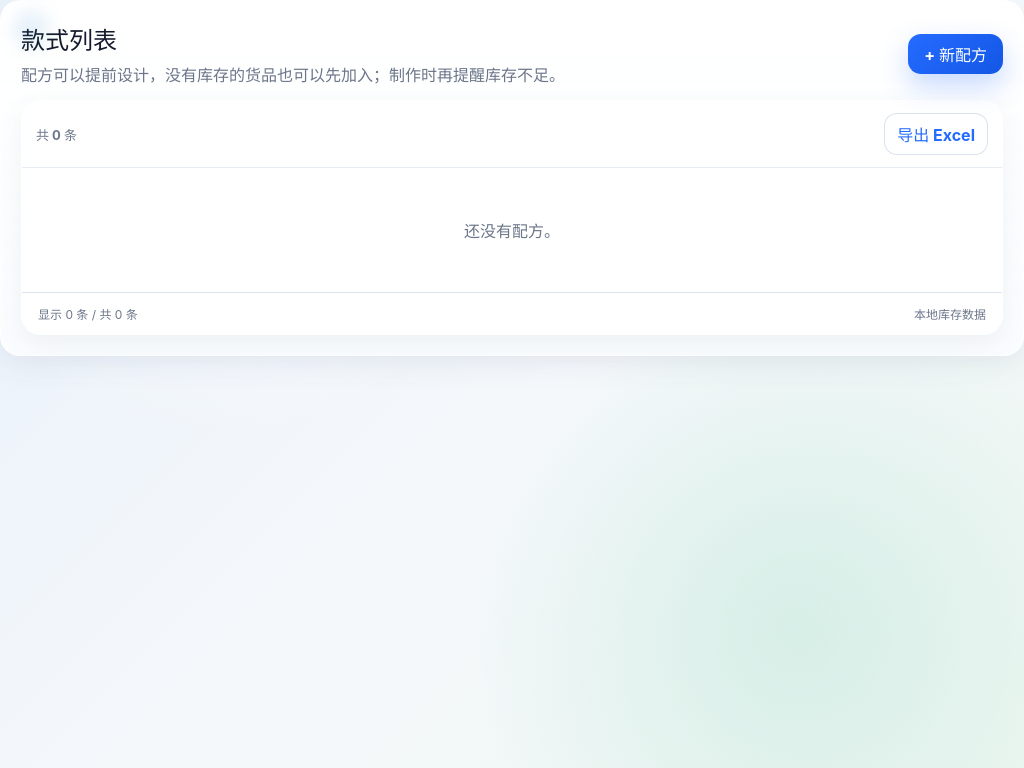
it: RecipesPage › lets recipe material lines choose an active stocked material size
The width and height of the screenshot is (1024, 768).
Later steps or results of the test are not shown.
Click the button "+ 新配方" at (956,54), box [908, 34, 1003, 74]
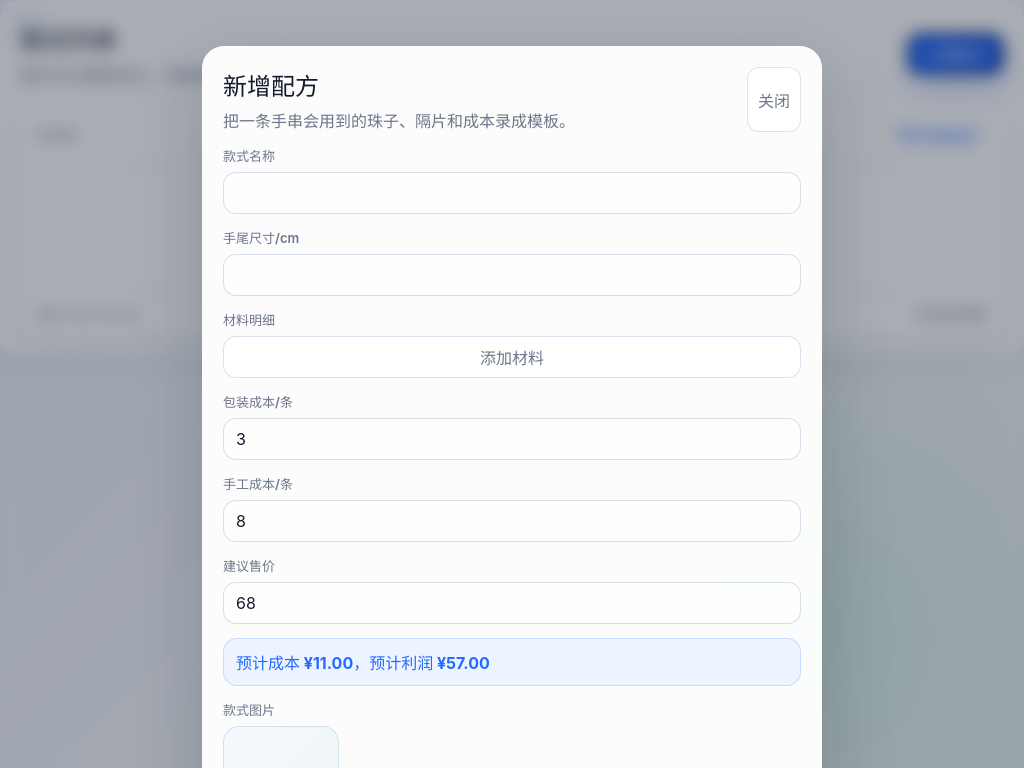
Type "粉晶款" into the field labelled "款式名称" at (512,193), box [223, 172, 801, 214]
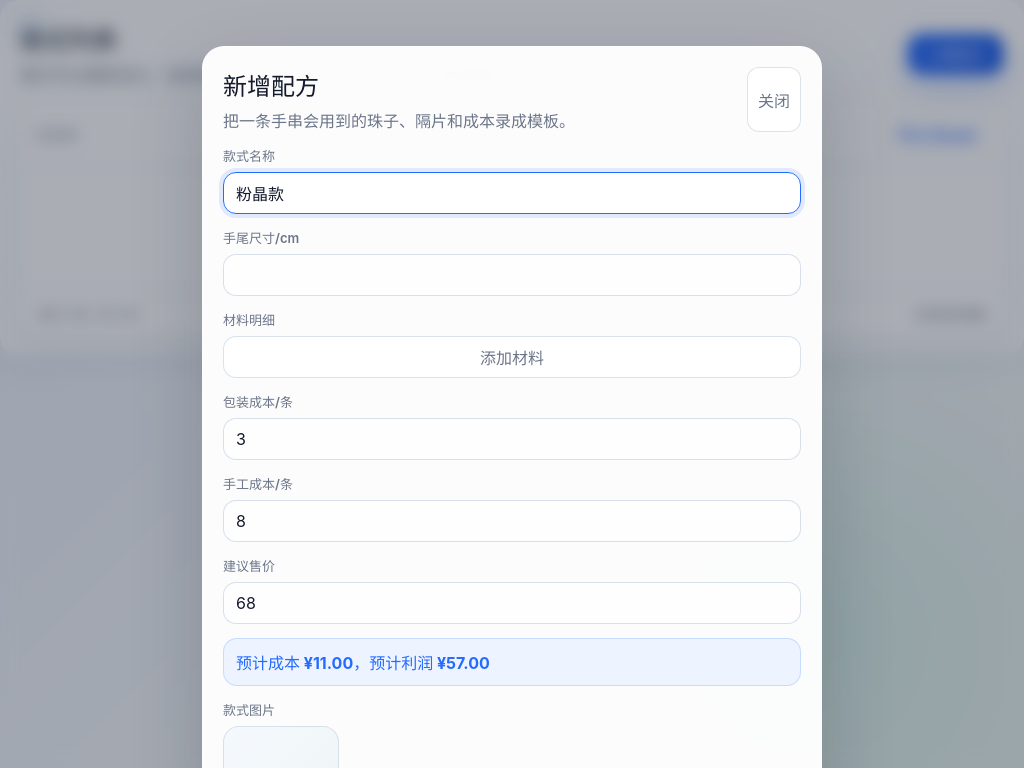
Type "15.5" into the field labelled "手尾尺寸/cm" at (512,275), box [223, 254, 801, 296]
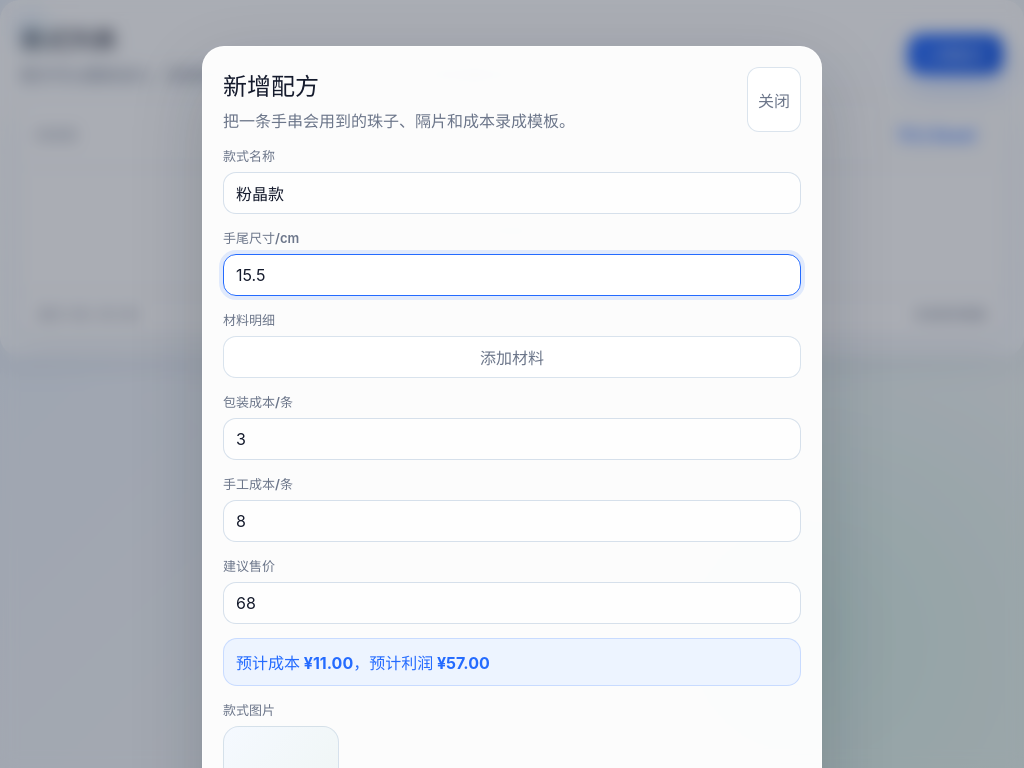
Click the button "添加材料" at (512,357), box [223, 336, 801, 378]
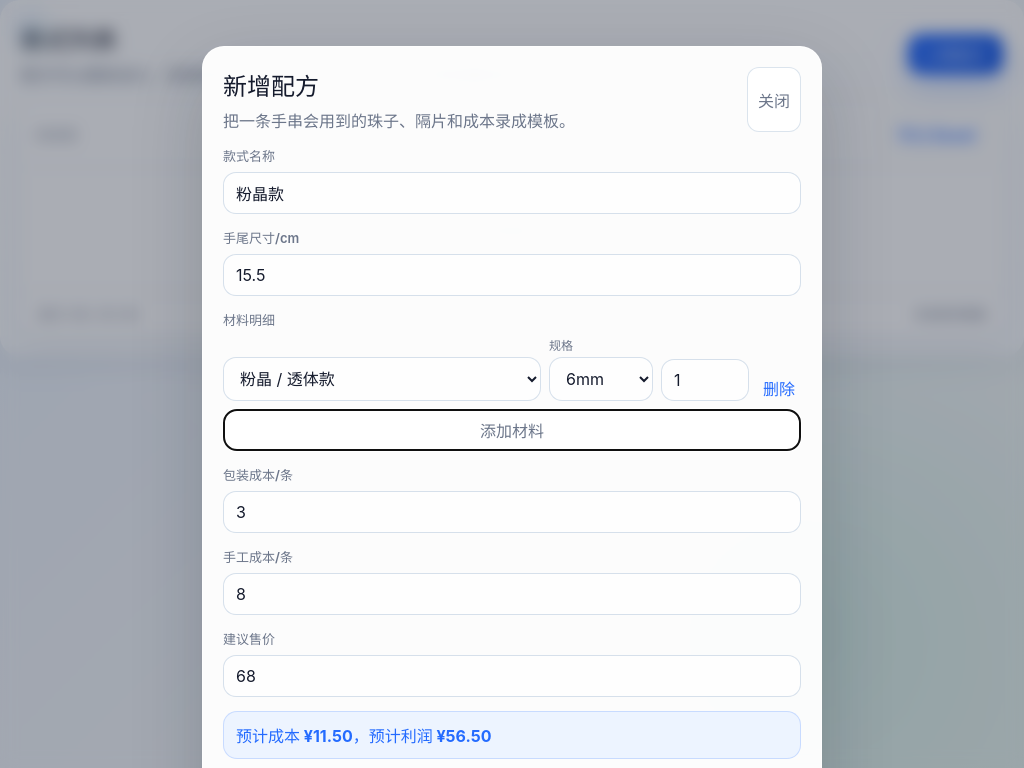
Result: the dropdown named "材料" shows "粉晶 / 透体款" at [223, 357, 541, 401]
Result: the dropdown labelled "规格" shows "6mm" at [549, 357, 653, 401]
